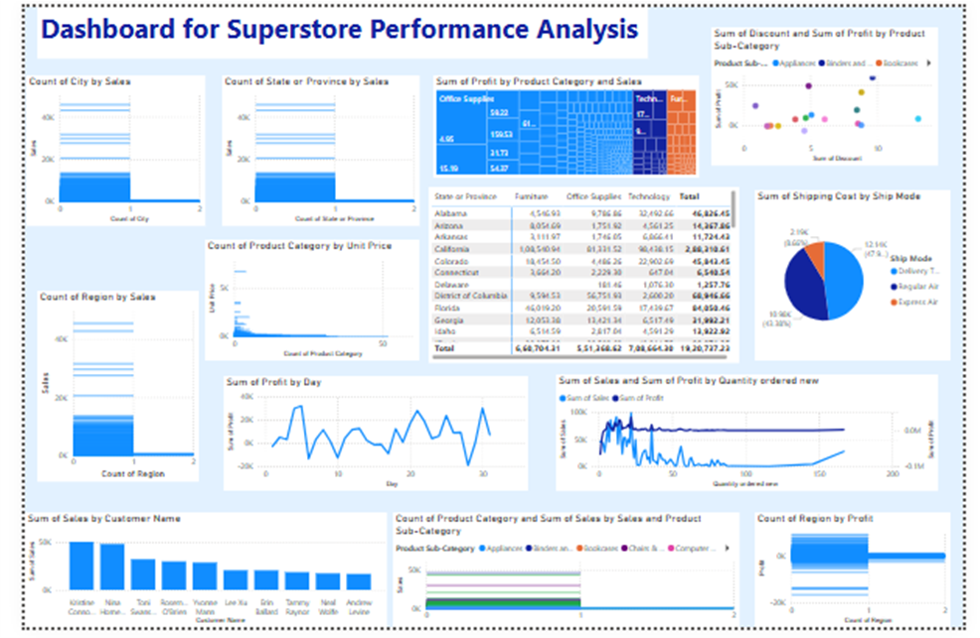

Layout of this report page (visuals, bound fields, positions):
{"tool":"powerbi","page":{"name":"My Dashboard","canvas":[1508,1000],"ordinal":4},"visuals":[{"type":"clusteredBarChart","fields":{"Category":["Orders.Sales"],"Y":["Orders.State or Province"]},"box":[317.5,110,317.5,242.5],"z":0},{"type":"clusteredBarChart","fields":{"Category":["Orders.Sales"],"Y":["Orders.City"]},"box":[2.5,110,287.5,242.5],"z":1000},{"type":"clusteredBarChart","fields":{"Y":["Orders.Region"],"Category":["Orders.Sales"]},"box":[20,457.5,260,307.5],"z":2000},{"type":"textbox","box":[20,0,982.5,82.5],"z":3000},{"type":"pieChart","fields":{"Y":["Orders.Shipping Cost"],"Category":["Orders.Ship Mode"]},"box":[1175,295,315,275],"z":4000},{"type":"clusteredBarChart","fields":{"Y":["Orders.Product Category"],"Category":["Orders.Unit Price"]},"box":[290,375,345,195],"z":5000},{"type":"lineChart","fields":{"Category":["Orders.Order Date.Variation.Date Hierarchy.Day"],"Y":["Orders.Profit"]},"box":[320,595,490,185],"z":6000},{"type":"lineChart","fields":{"Y":["Orders.Sales"],"Category":["Orders.Quantity ordered new"],"Y2":["Orders.Profit"]},"box":[855,592.5,615,187.5],"z":7000},{"type":"barChart","fields":{"Y":["Orders.Product Category"],"Series":["Table 1 (Orders).Product Sub-Category"],"Category":["Orders.Sales"]},"box":[592.5,815,557.5,185],"z":8000},{"type":"treemap","fields":{"Details":["Orders.Sales"],"Group":["Orders.Product Category"],"Values":["Orders.Profit"]},"box":[657.5,110,427.5,165],"z":9000},{"type":"scatterChart","fields":{"Y":["Orders.Profit"],"X":["Orders.Discount"],"Series":["Orders.Product Sub-Category"]},"box":[1105,32.5,365,222.5],"z":10000},{"type":"clusteredColumnChart","fields":{"Category":["Orders.Customer Name"],"Y":["Orders.Sales"]},"box":[0,815,582.5,185],"z":11000},{"type":"pivotTable","fields":{"Rows":["Orders.State or Province"],"Columns":["Orders.Product Category"],"Values":["Orders.Sales"]},"box":[650,290,500,284.3],"z":12000},{"type":"barChart","fields":{"Y":["Orders.Region"],"Category":["Orders.Profit"]},"box":[1175,815,315,185],"z":13000}]}

Visuals, with their boxes in screenshot pixels (x1, y1, x2, y2), scaled from the page's 1508x1000 canvas onto the 980x638 screenshot:
clusteredBarChart - Orders.Sales x Orders.State or Province: <bbox>206, 70, 413, 225</bbox>
clusteredBarChart - Orders.Sales x Orders.City: <bbox>2, 70, 188, 225</bbox>
clusteredBarChart - Orders.Region x Orders.Sales: <bbox>13, 292, 182, 488</bbox>
textbox: <bbox>13, 0, 651, 53</bbox>
pieChart - Orders.Shipping Cost x Orders.Ship Mode: <bbox>764, 188, 968, 364</bbox>
clusteredBarChart - Orders.Product Category x Orders.Unit Price: <bbox>188, 239, 413, 364</bbox>
lineChart - Orders.Order Date.Variation.Date Hierarchy.Day x Orders.Profit: <bbox>208, 380, 526, 498</bbox>
lineChart - Orders.Sales x Orders.Quantity ordered new: <bbox>556, 378, 955, 498</bbox>
barChart - Orders.Product Category x Table 1 (Orders).Product Sub-Category: <bbox>385, 520, 747, 637</bbox>
treemap - Orders.Sales x Orders.Product Category: <bbox>427, 70, 705, 175</bbox>
scatterChart - Orders.Profit x Orders.Discount: <bbox>718, 21, 955, 163</bbox>
clusteredColumnChart - Orders.Customer Name x Orders.Sales: <bbox>0, 520, 379, 637</bbox>
pivotTable - Orders.State or Province x Orders.Product Category: <bbox>422, 185, 747, 366</bbox>
barChart - Orders.Region x Orders.Profit: <bbox>764, 520, 968, 637</bbox>
